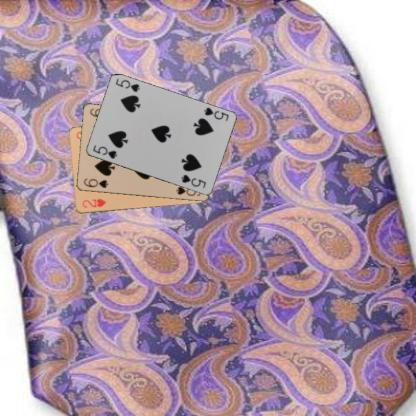2h: (80, 196, 107, 209)
5s: (201, 104, 230, 122), (90, 143, 118, 160)
6s: (81, 176, 109, 190)
